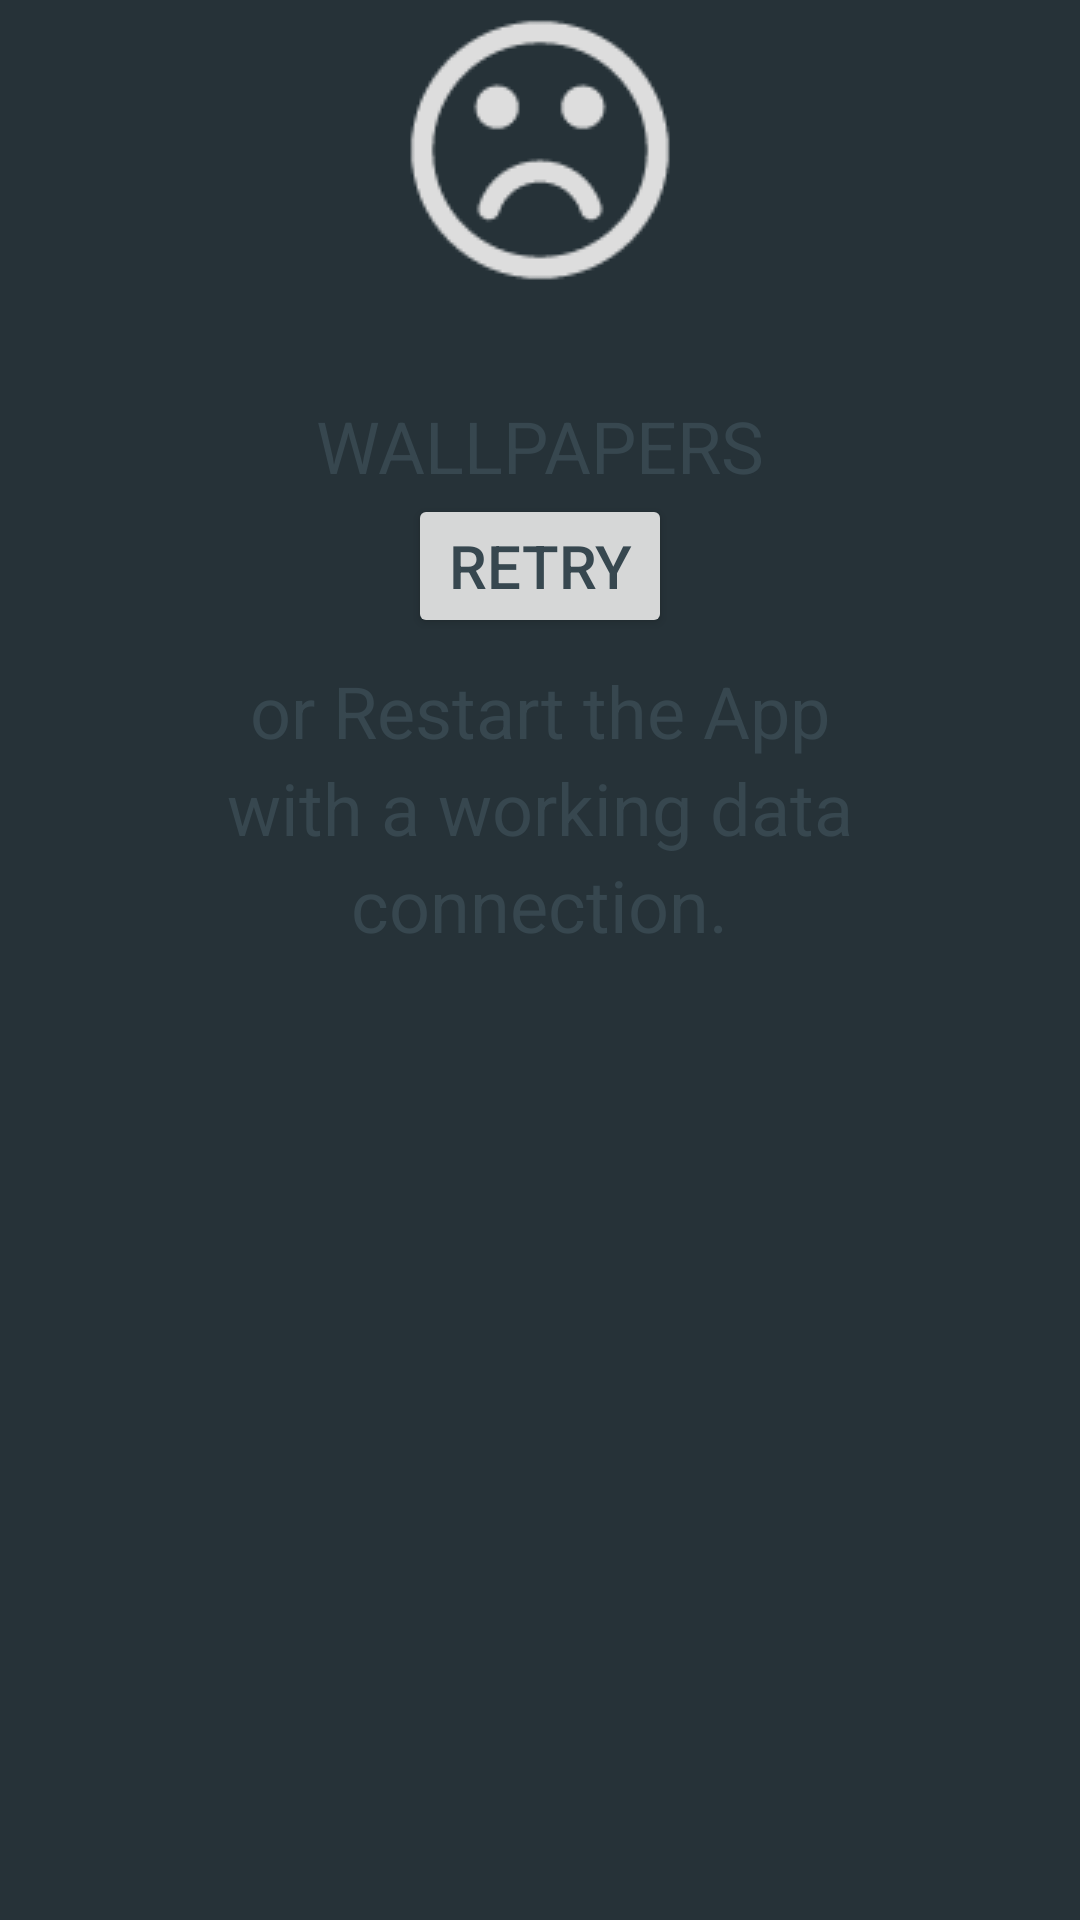

Screen size 1080px x 1920px. Icon name, then its center in pixels as [x,y]:
sad smiley: [540,150]
